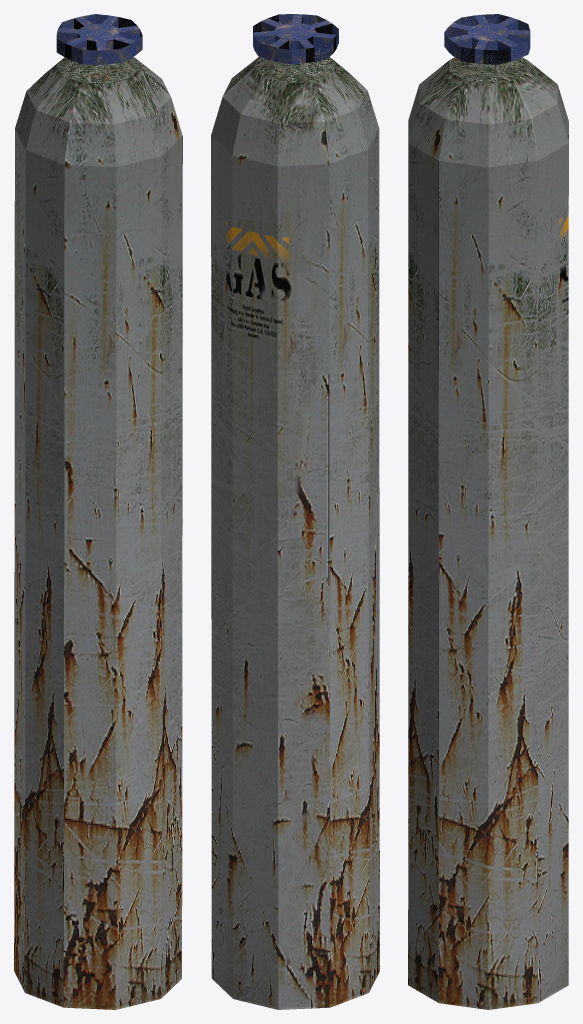
Rendered from gbottle.fbx.
3 renders of one model, left to right at view 1: azimuth 30°, elevation 25°; view 2: azimuth 150°, elevation 25°; view 3: azimuth 270°, elevation 25°, orthographic.
Parts seen in each view (by area): view 1: gbottle_Layer1; view 2: gbottle_Layer1; view 3: gbottle_Layer1.
Part boxes in pixels (x1,y1,x2,y2): gbottle_Layer1: (14,14,182,1009); gbottle_Layer1: (211,14,379,1009); gbottle_Layer1: (408,14,568,1009).
Size of the model in its own units: 16.08 by 98.5 by 15.22.
Materials: 1 (1 with a texture image).
